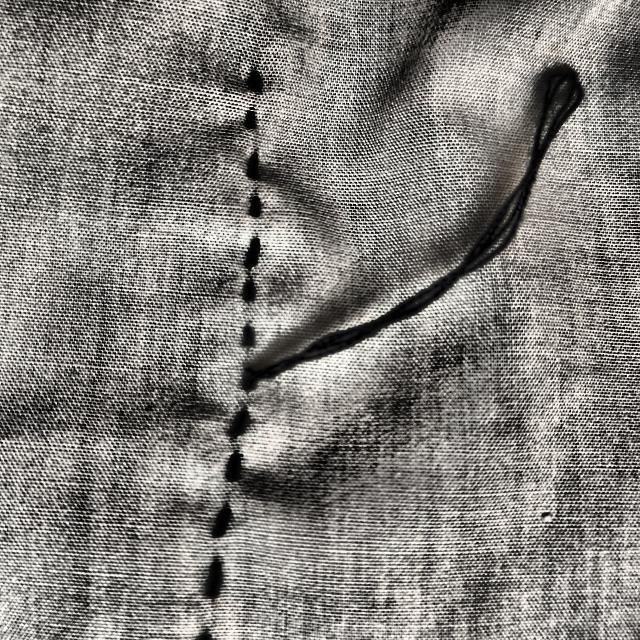gray stitch: (200, 42, 609, 421)
